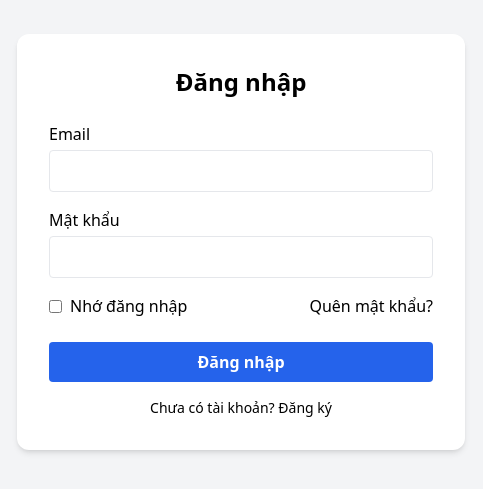
Test: LoginPage Integration Test › shows general error if credentials are invalid
This screenshot has width=483, height=489.
Type "wrong@email.com" into the field labelled "Email" at [241, 171], box [49,150,433,192]
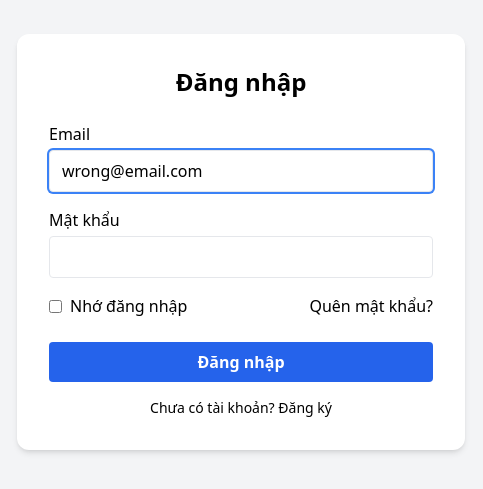
Type "wrongpass" into the password field labelled "Mật khẩu" at [241, 257], box [49,236,433,278]
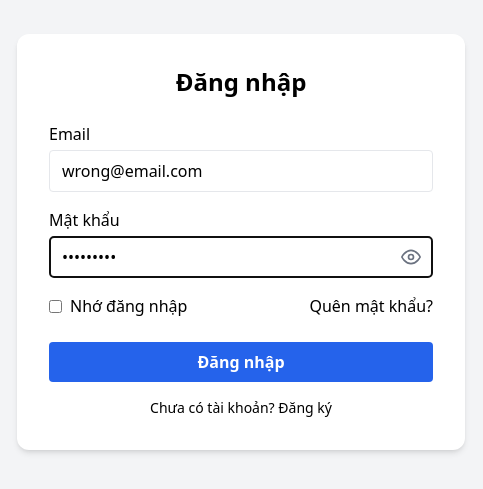
Click the button "Đăng nhập" at [241, 362], box [49,342,433,382]
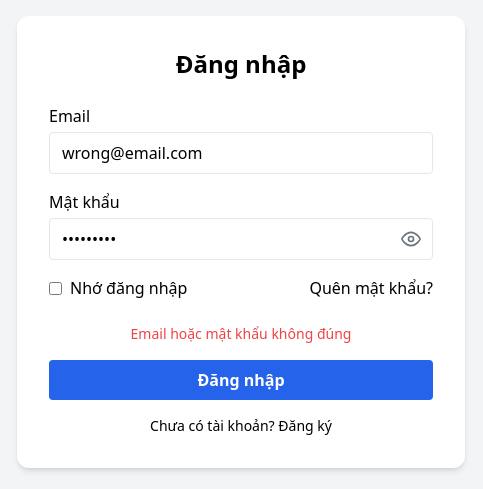
Check: the text "Email hoặc mật khẩu không đúng" is shown, box [130,324,351,343]
